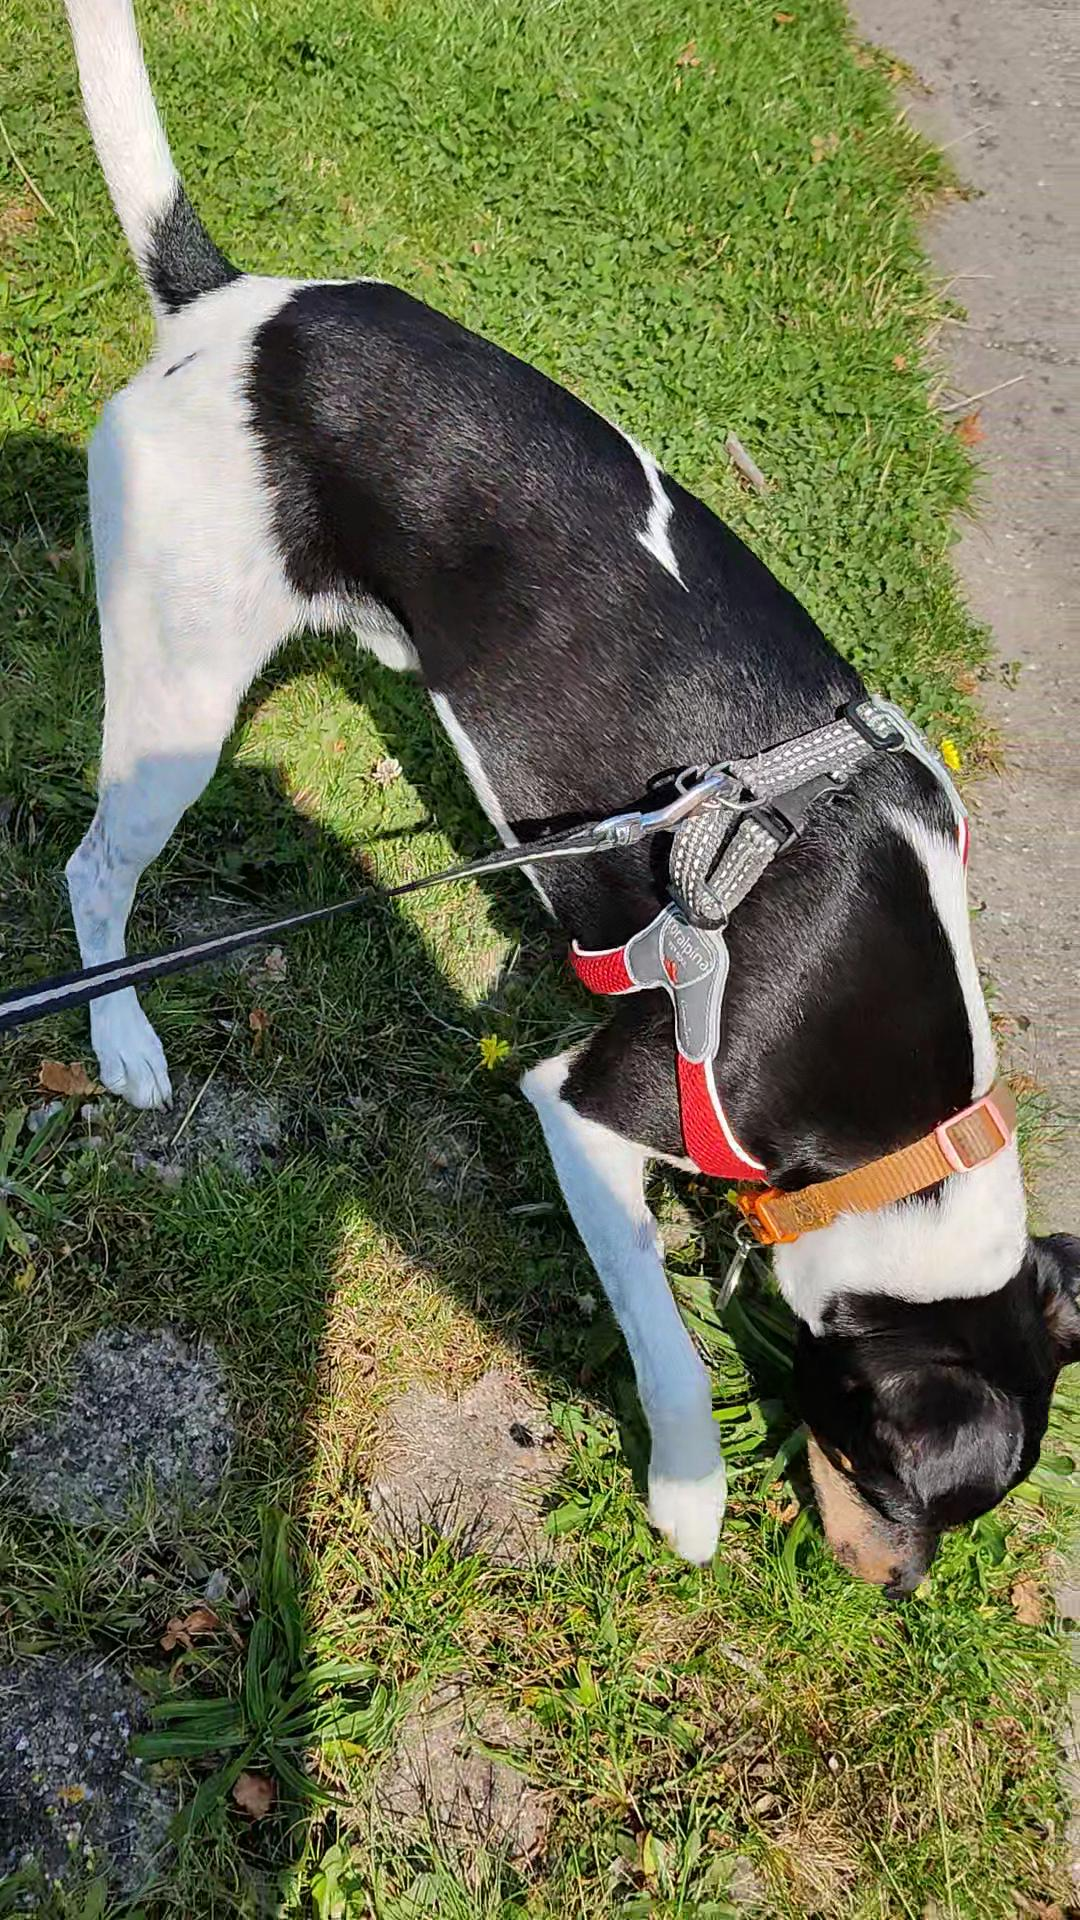Dog: (0, 0, 1079, 1607)
